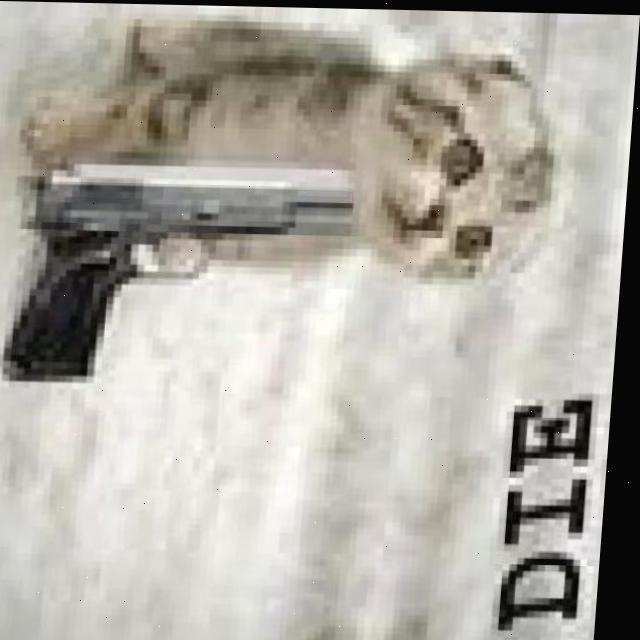gun: (7, 149, 373, 393)
